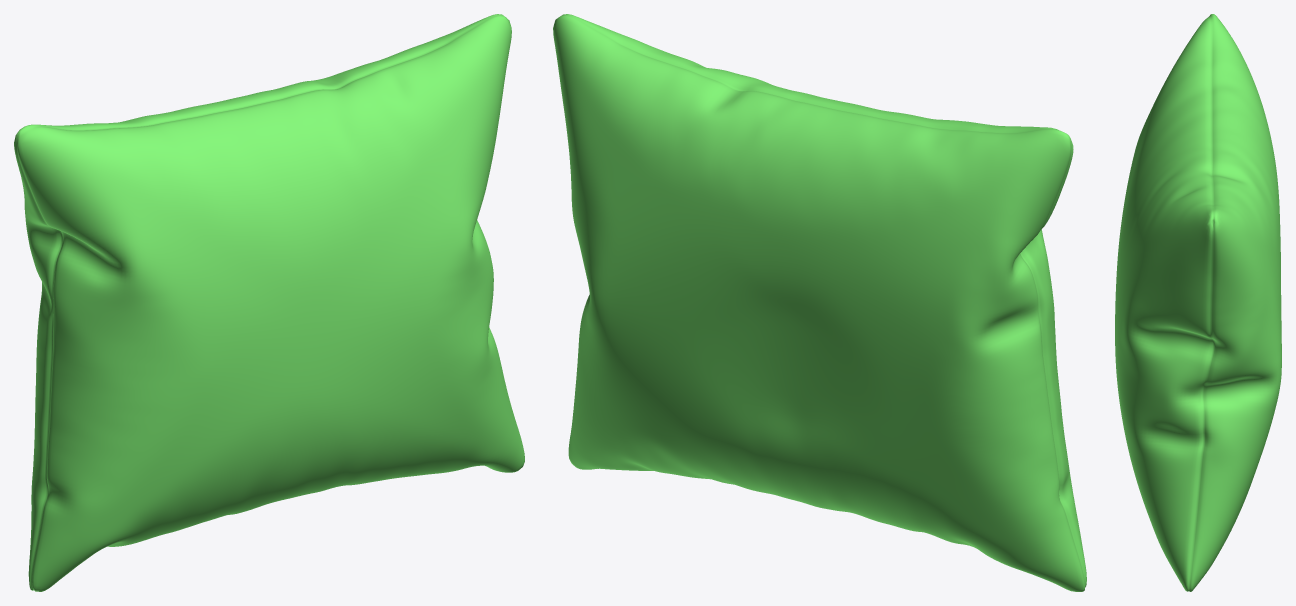
Rendered from CAT_NIP.fbx.
The picture shows the model from 3 angles, left to right: view 1: azimuth 30°, elevation 25°; view 2: azimuth 150°, elevation 25°; view 3: azimuth 270°, elevation 25°; orthographic projection. The views are drawn at different scales.
Visible parts, largest first — view 1: Pillow 01; view 2: Pillow 01; view 3: Pillow 01.
Part boxes in pixels (x1=…): Pillow 01: x1=14, y1=14, x2=524, y2=591; Pillow 01: x1=553, y1=14, x2=1086, y2=591; Pillow 01: x1=1115, y1=14, x2=1281, y2=591.
Bounding box in the file's own units: 171 × 149 × 58.92.
